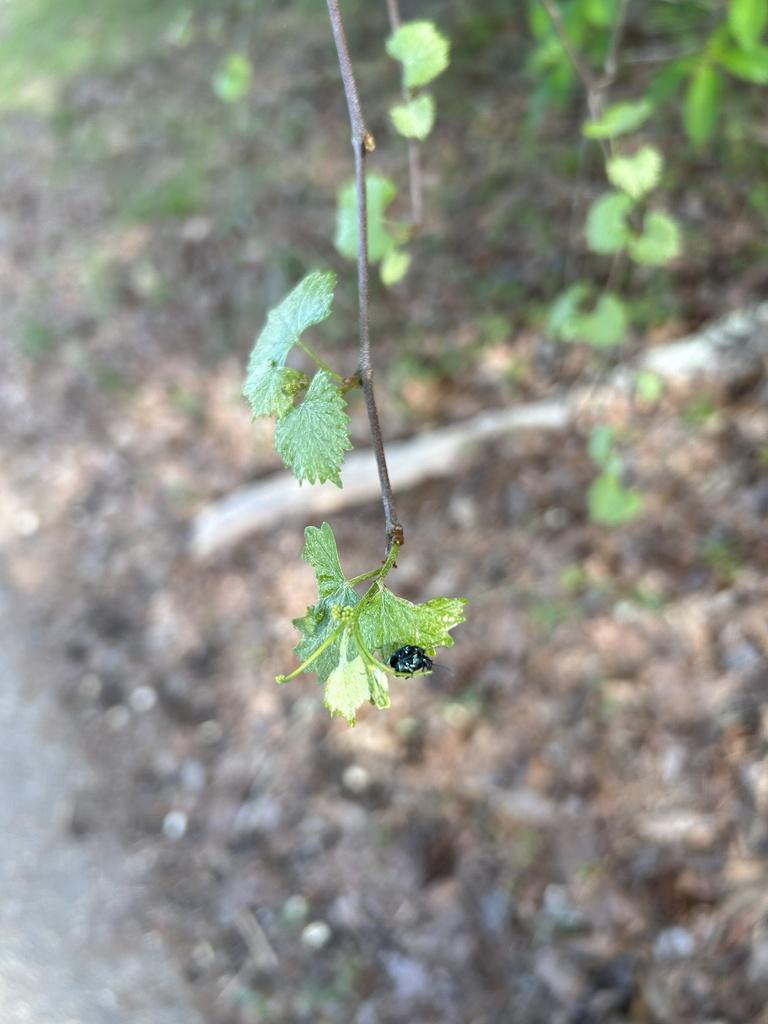flea_beetle: (375, 629, 460, 698)
